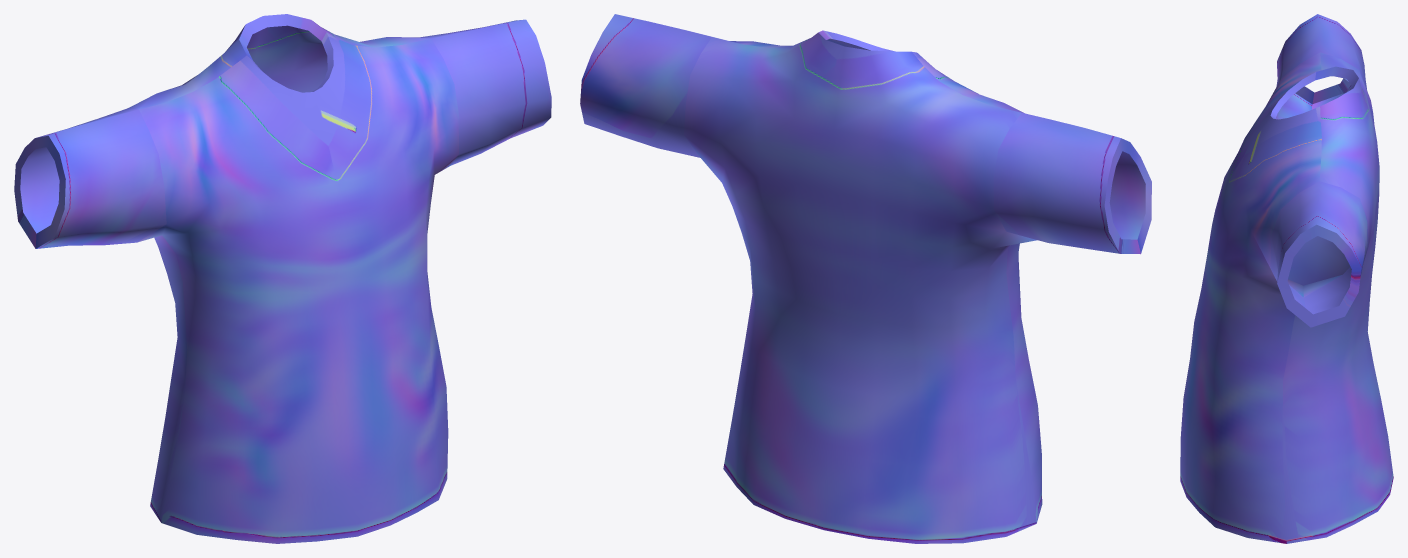
Rendered from Tshirt_Normal.glb.
3 views of the same model, side by side, from view 1: azimuth 30°, elevation 25°; view 2: azimuth 150°, elevation 25°; view 3: azimuth 270°, elevation 25° (orthographic). The views are drawn at different scales.
Visible parts, largest first — view 1: TShirt_LP.001; view 2: TShirt_LP.001; view 3: TShirt_LP.001.
Part boxes in pixels (bbox=[...]): TShirt_LP.001: bbox=[14, 14, 551, 543]; TShirt_LP.001: bbox=[580, 14, 1151, 543]; TShirt_LP.001: bbox=[1180, 14, 1393, 543].
Bounding box in the file's own units: 0.6266 × 0.5314 × 0.2526.
1 material, 1 textured.
